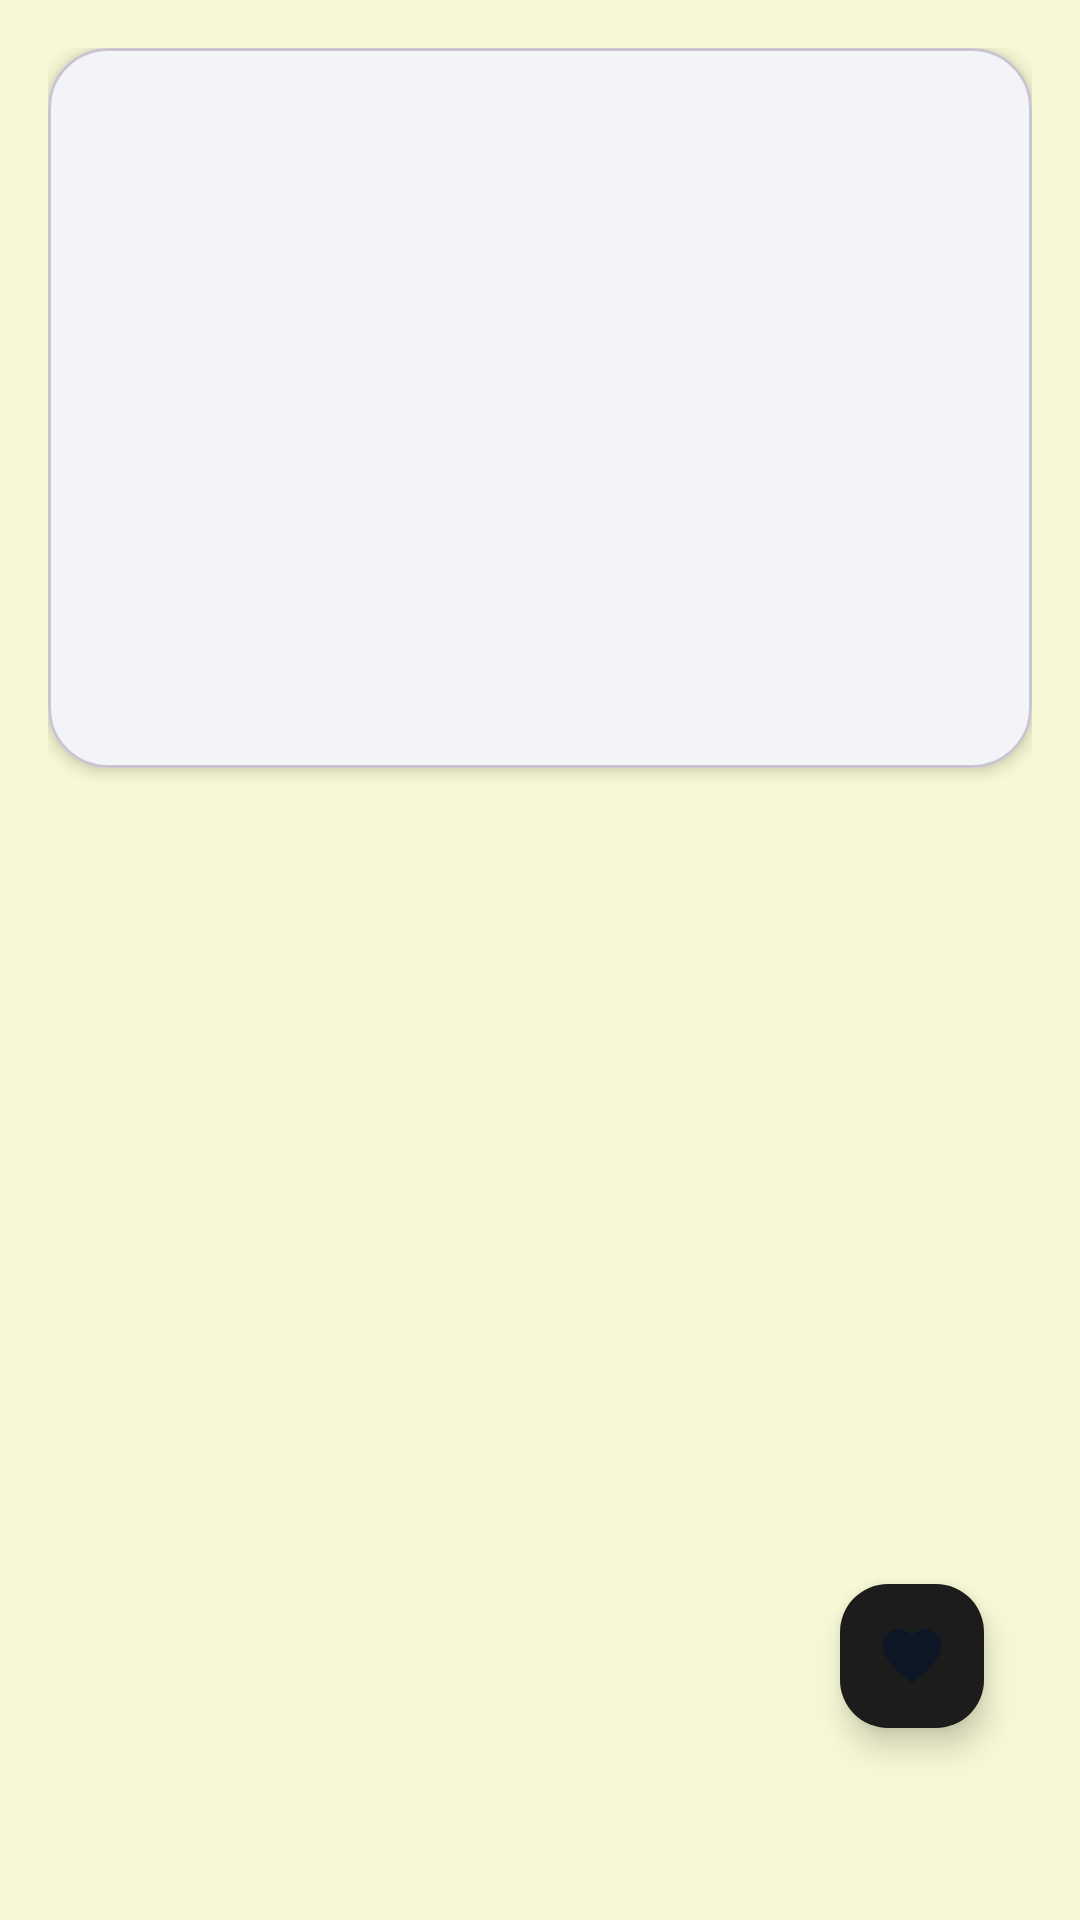

Named icons in this screenshot (1080 × 1920) and their bounding boxes, Rect(x1, y1, x2, y2):
set favorite: Rect(840, 1584, 984, 1728)
